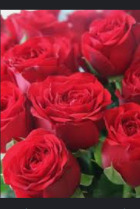RedRose: (0, 135, 95, 200), (30, 74, 111, 149), (79, 11, 138, 74)
